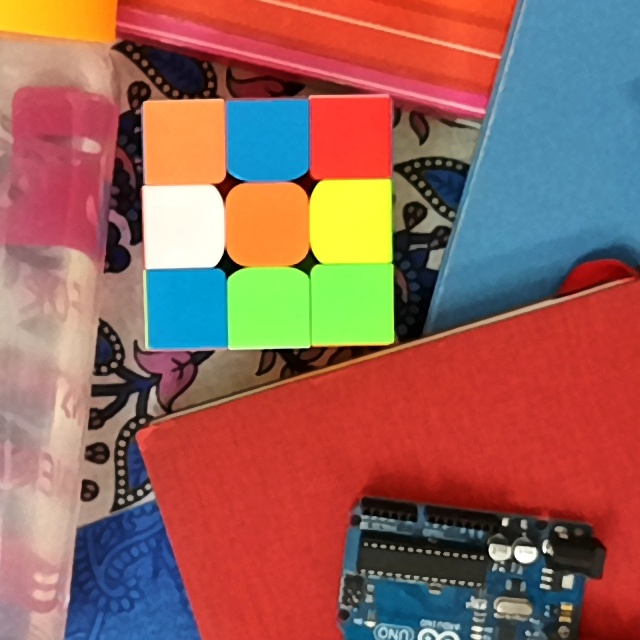tile: (146, 106, 220, 179), (317, 98, 387, 172), (230, 105, 303, 174), (152, 274, 222, 343), (318, 268, 389, 336), (148, 191, 214, 263), (233, 278, 305, 343), (319, 190, 385, 257), (232, 194, 300, 258)
